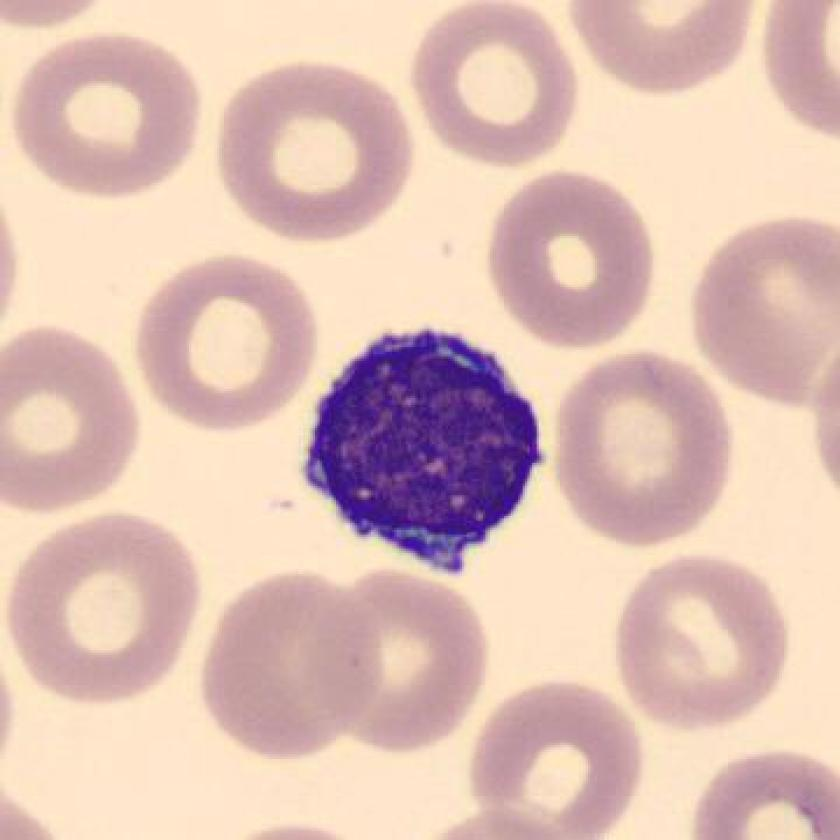lymphocyte: (290, 309, 561, 589)
